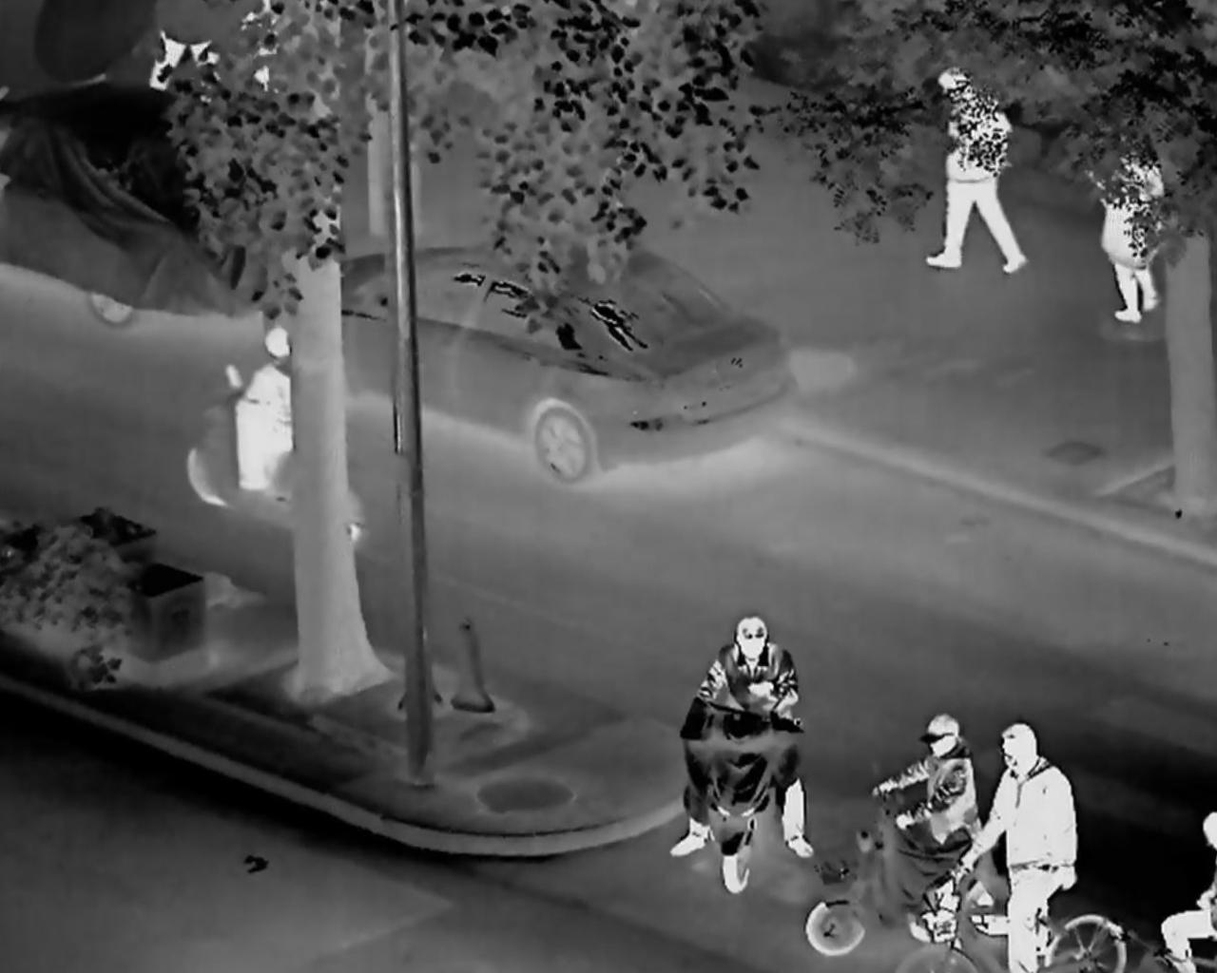person: (671, 599, 821, 864), (952, 722, 1093, 973), (898, 53, 1030, 284), (868, 703, 1005, 915), (1084, 121, 1171, 335), (224, 312, 311, 499)
